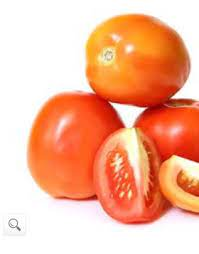tomato: (69, 8, 184, 96), (29, 86, 105, 205), (100, 128, 168, 226)
